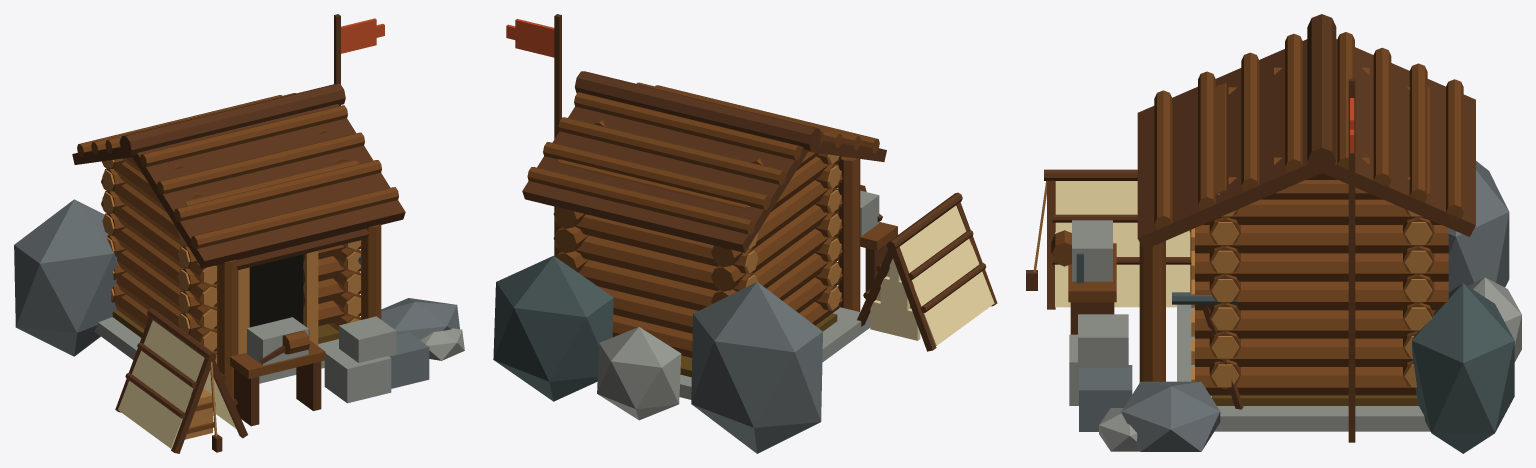
Rendered from mine.glb.
3 views of the same model, side by side, from view 1: azimuth 30°, elevation 25°; view 2: azimuth 150°, elevation 25°; view 3: azimuth 270°, elevation 25° (orthographic). The views are drawn at different scales.
Parts seen in each view (by area): view 1: Front wall log, Tent frame.002, Cut block.001, Block on trestle, Guy rope, Tent back, Lodge doorway, Pennant tip, Lodge floor; view 2: Front wall log, Tent frame.002, Cut block.001, Pick head, Tent back, Block on trestle, Guy rope, Pennant tip; view 3: Front wall log, Tent frame.002, Block on trestle, Pick head, Cut block.001, Tent back, Guy rope, Lodge floor.
Boxes of the visible parts, bbox=[...] form: Front wall log: bbox=[77, 93, 398, 433]; Tent frame.002: bbox=[72, 14, 405, 453]; Cut block.001: bbox=[14, 199, 459, 388]; Block on trestle: bbox=[94, 316, 464, 403]; Guy rope: bbox=[102, 159, 360, 439]; Tent back: bbox=[118, 320, 236, 448]; Lodge doorway: bbox=[249, 254, 303, 327]; Pennant tip: bbox=[341, 18, 384, 53]; Lodge floor: bbox=[112, 310, 338, 352]; Front wall log: bbox=[527, 82, 897, 357]; Tent frame.002: bbox=[522, 14, 997, 351]; Cut block.001: bbox=[691, 282, 822, 453]; Pick head: bbox=[493, 255, 613, 401]; Tent back: bbox=[869, 205, 994, 345]; Block on trestle: bbox=[597, 187, 879, 420]; Guy rope: bbox=[555, 154, 911, 310]; Pennant tip: bbox=[506, 19, 554, 57]; Front wall log: bbox=[1051, 32, 1463, 395]; Tent frame.002: bbox=[1026, 14, 1475, 442]; Block on trestle: bbox=[1069, 220, 1521, 451]; Pick head: bbox=[1076, 253, 1514, 453]; Cut block.001: bbox=[1079, 161, 1509, 451]; Tent back: bbox=[1055, 181, 1190, 307]; Guy rope: bbox=[1033, 85, 1432, 387]; Lodge floor: bbox=[1212, 395, 1418, 405].
Bounding box in the file's own units: 4.06 × 3.7 × 4.11.
